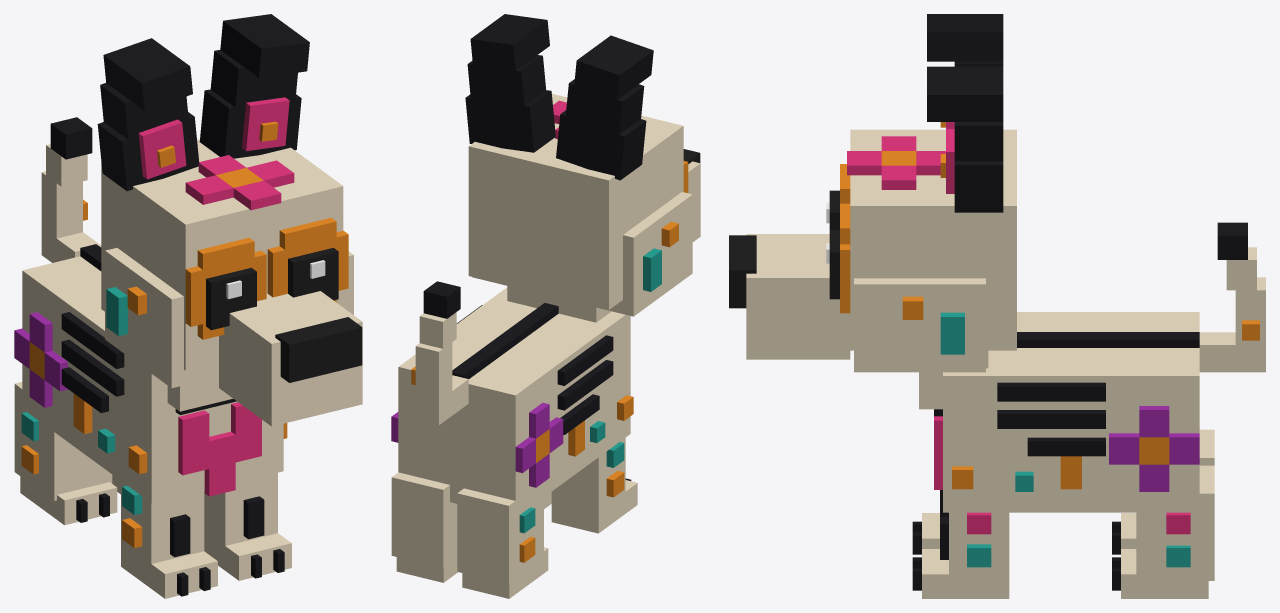
Rendered from AbbiVoxel.fbx.
3 renders of one model, left to right at view 1: azimuth 30°, elevation 25°; view 2: azimuth 150°, elevation 25°; view 3: azimuth 270°, elevation 25°, orthographic. The views are drawn at different scales.
Visible parts, largest first — view 1: HeadMesh, Body, Ear_L_Mesh, Ear_R_Mesh, Leg_FR_Mesh, Leg_BR_Mesh, Leg_FL_Mesh, Tail_Mesh; view 2: Body, HeadMesh, Ear_L_Mesh, Ear_R_Mesh, Leg_BR_Mesh, Leg_BL_Mesh, Tail_Mesh, Leg_FR_Mesh; view 3: HeadMesh, Body, Ear_L_Mesh, Leg_BL_Mesh, Leg_FL_Mesh, Tail_Mesh, Ear_R_Mesh, Leg_BR_Mesh, Leg_FR_Mesh.
Boxes of the visible parts, x1=… form: HeadMesh: x1=101, y1=139, x2=362, y2=426; Body: x1=14, y1=244, x2=287, y2=503; Ear_L_Mesh: x1=199, y1=14, x2=309, y2=158; Ear_R_Mesh: x1=97, y1=38, x2=199, y2=191; Leg_FR_Mesh: x1=121, y1=481, x2=217, y2=598; Leg_BR_Mesh: x1=14, y1=382, x2=117, y2=525; Leg_FL_Mesh: x1=204, y1=472, x2=291, y2=580; Tail_Mesh: x1=41, y1=117, x2=101, y2=262; Body: x1=391, y1=285, x2=633, y2=517; HeadMesh: x1=468, y1=93, x2=700, y2=316; Ear_L_Mesh: x1=465, y1=14, x2=555, y2=152; Ear_R_Mesh: x1=556, y1=35, x2=653, y2=180; Leg_BR_Mesh: x1=457, y1=482, x2=548, y2=598; Leg_BL_Mesh: x1=391, y1=472, x2=457, y2=582; Tail_Mesh: x1=411, y1=281, x2=468, y2=425; Leg_FR_Mesh: x1=551, y1=438, x2=637, y2=533; HeadMesh: x1=729, y1=129, x2=1016, y2=372; Body: x1=919, y1=312, x2=1199, y2=512; Ear_L_Mesh: x1=927, y1=66, x2=1003, y2=212; Leg_BL_Mesh: x1=1112, y1=465, x2=1214, y2=598; Leg_FL_Mesh: x1=912, y1=512, x2=1009, y2=598; Tail_Mesh: x1=1199, y1=222, x2=1265, y2=372; Ear_R_Mesh: x1=927, y1=14, x2=1003, y2=128; Leg_BR_Mesh: x1=1112, y1=429, x2=1214, y2=554; Leg_FR_Mesh: x1=912, y1=490, x2=948, y2=554.
Size of the model in its own units: 33.4 by 83.45 by 78.28.
